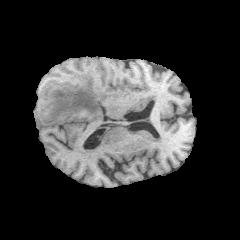glioma: (39, 71, 119, 123)
